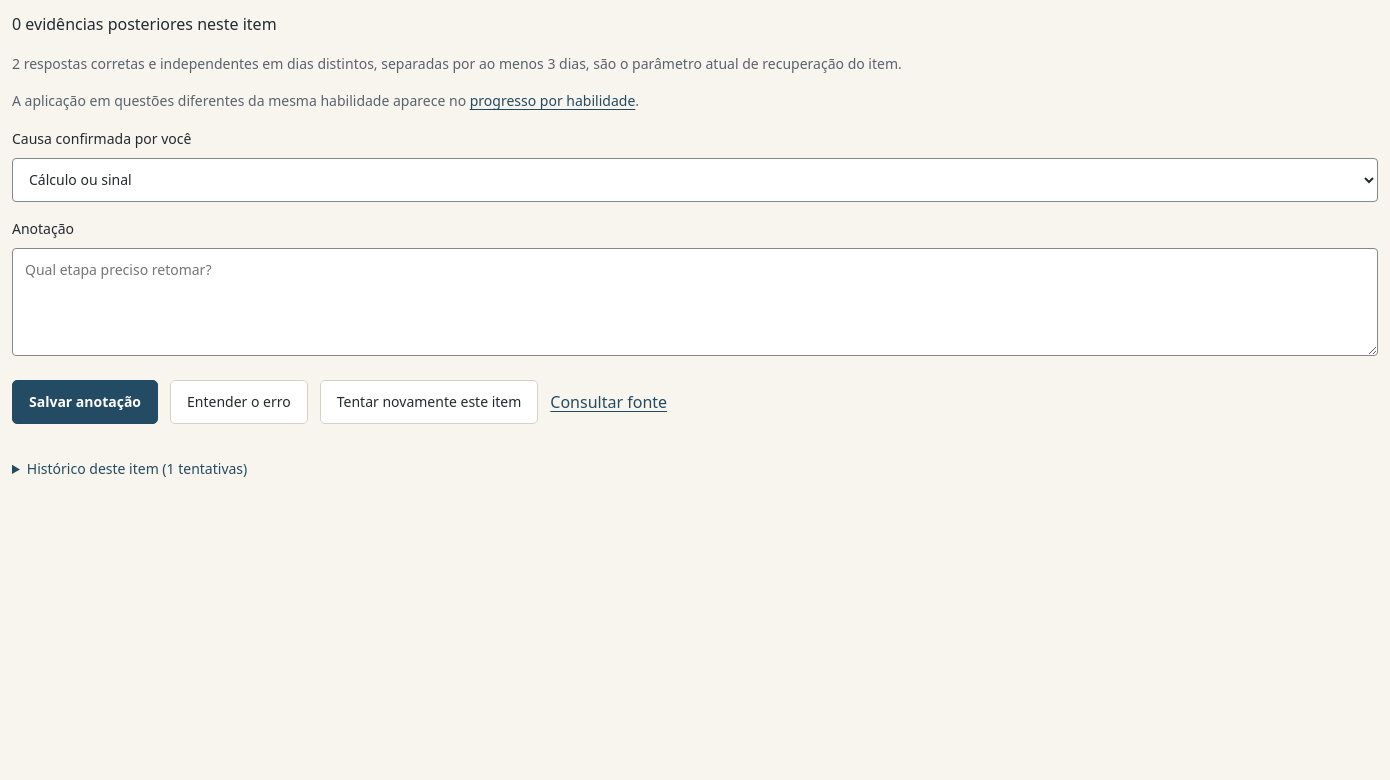
Scenario: a failed exposure leaves support and guided practice closed
Click the button "Entender o erro" at (239, 402), box top-left (170, 380), bottom-right (308, 424)
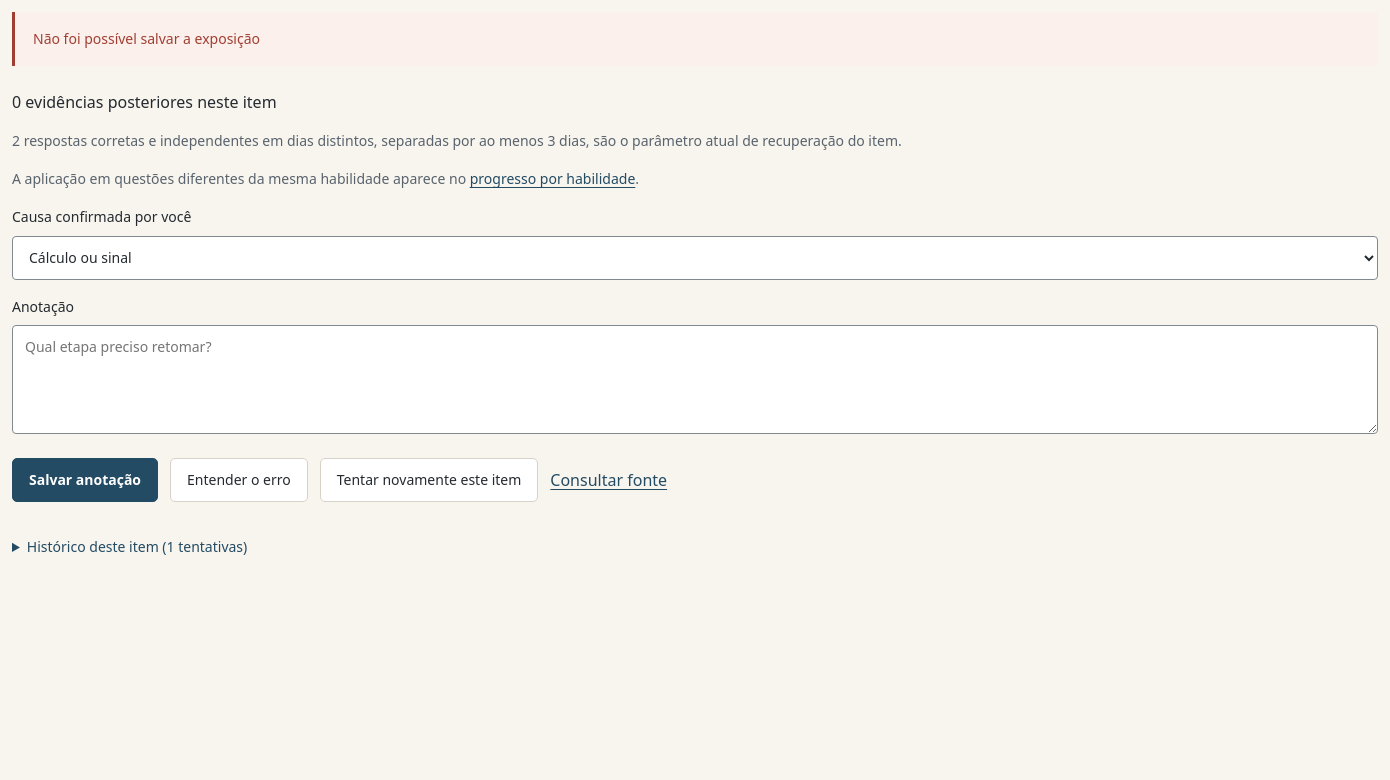
Expected: the text "Não foi possível salvar a exposição" is shown, top-left (12, 12), bottom-right (1378, 66)
